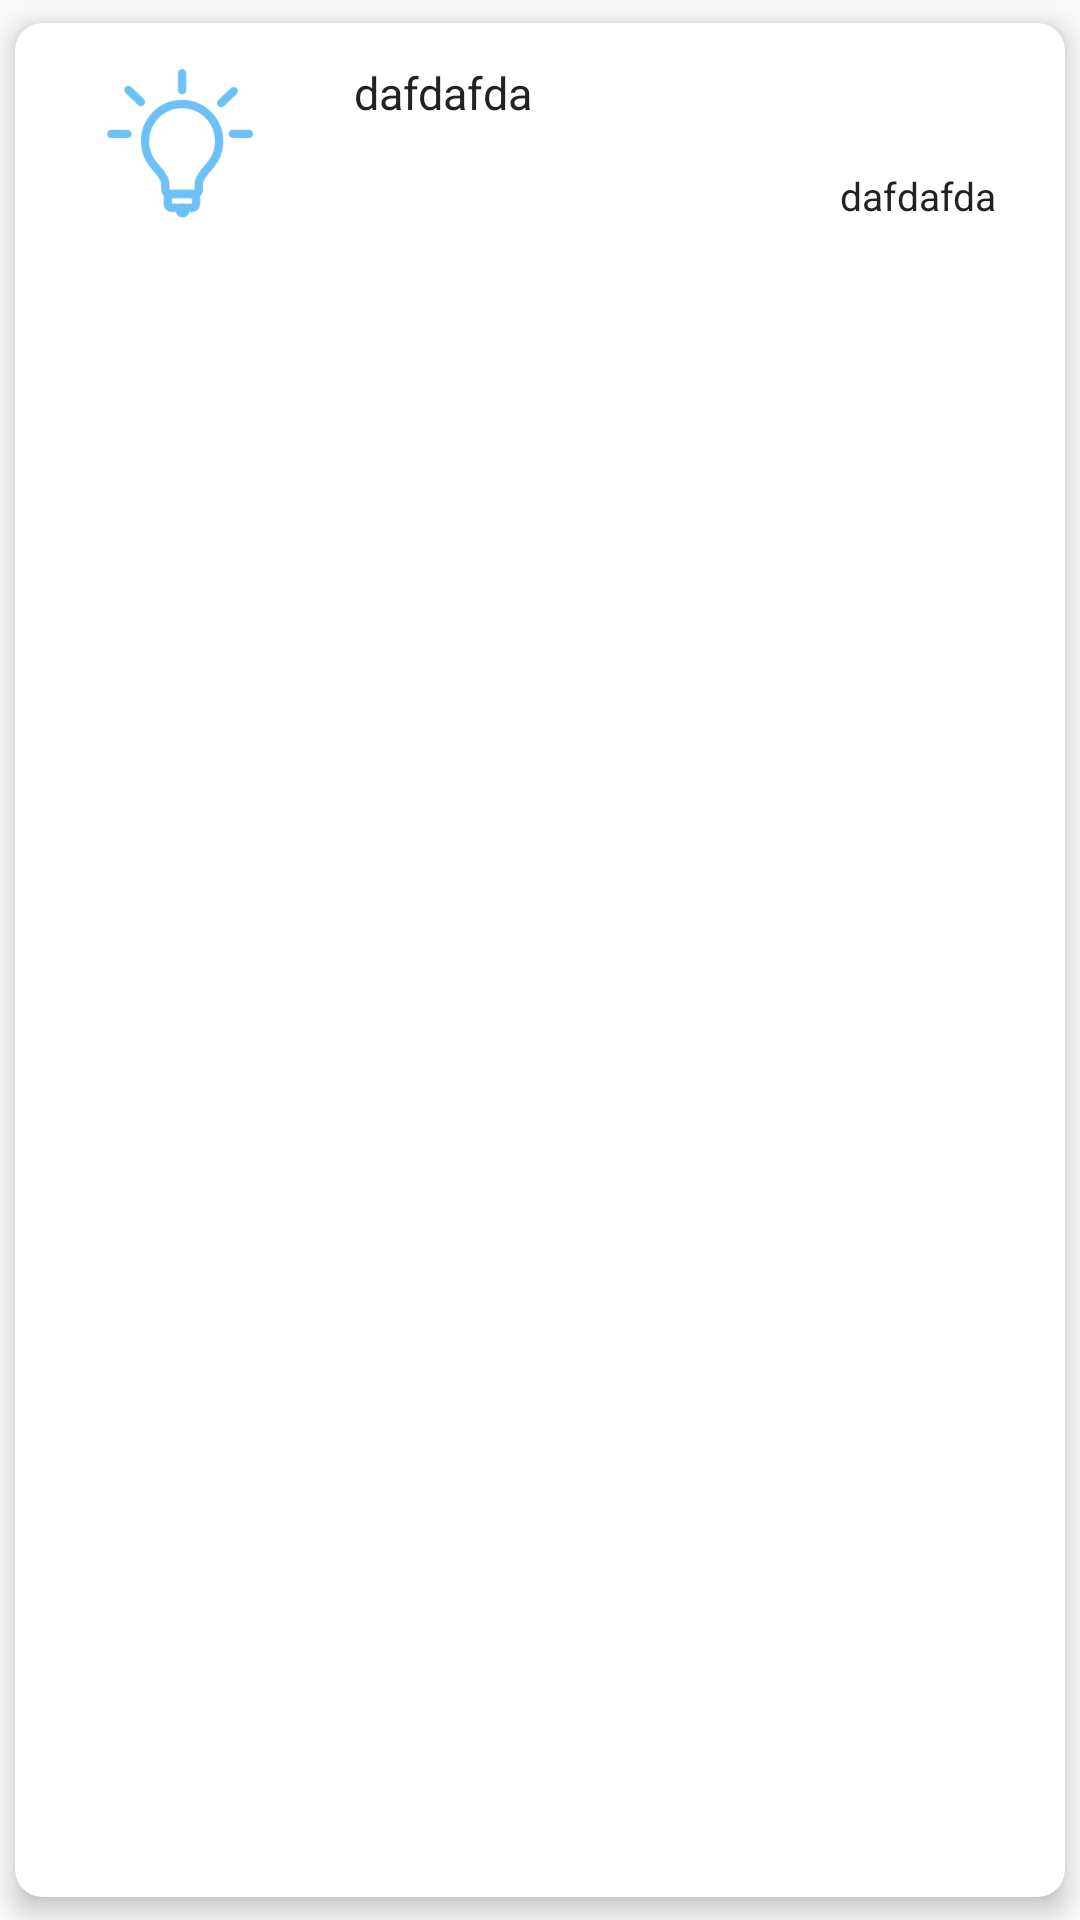

Screen size 1080px×1920px. Icon name, then its box in pixels as box(x1, y1, x2, y2):
lightbulb: box(107, 69, 253, 218)
